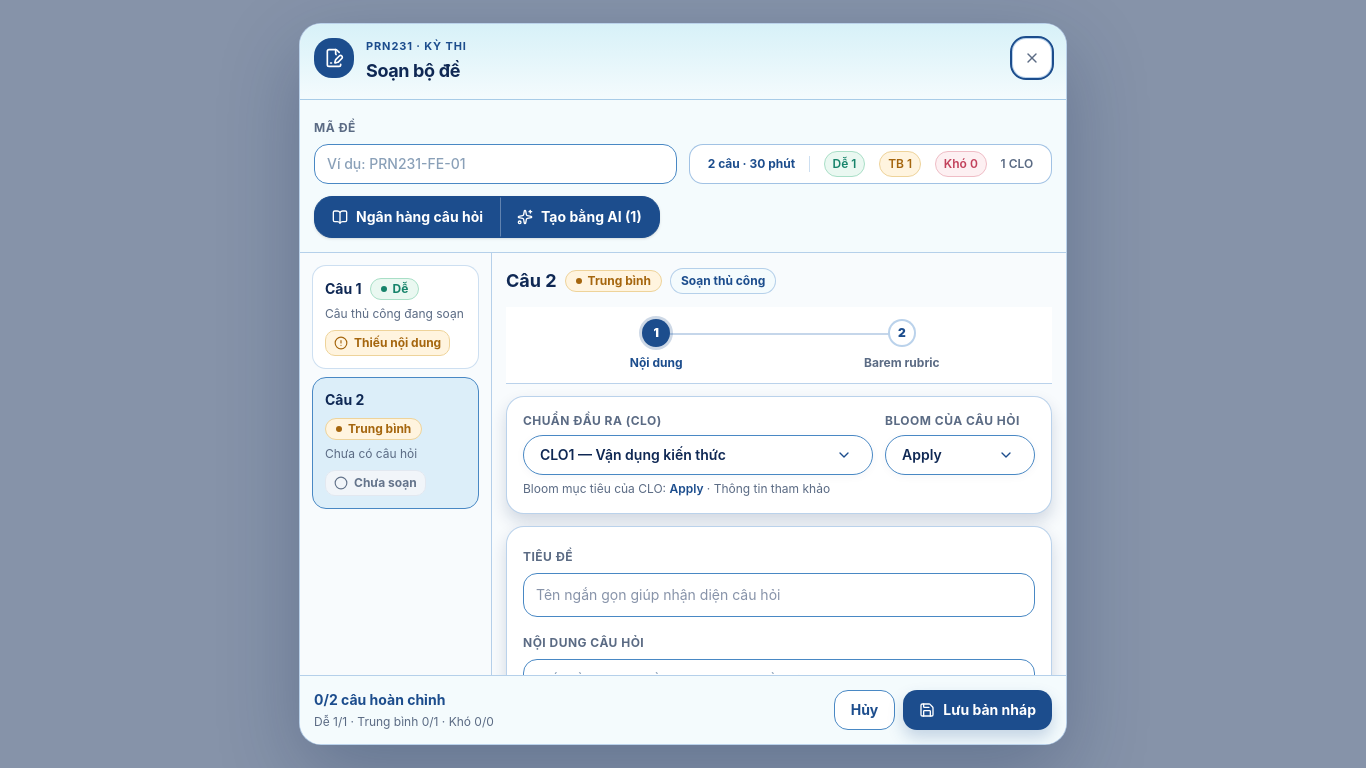
Test: Soạn bộ đề với các tab cố định › preserves typed content when switching tabs and keeps two-step rubric state
Earlier steps of the test are not shown.
Expected: the field labelled "Tiêu đề" is empty, [523,572,1035,616]
Click the tab "Câu 1 Dễ Câu thủ công đang soạn Thiếu nội dung" at (396, 316), box [312,264,479,368]
(page scrolled)
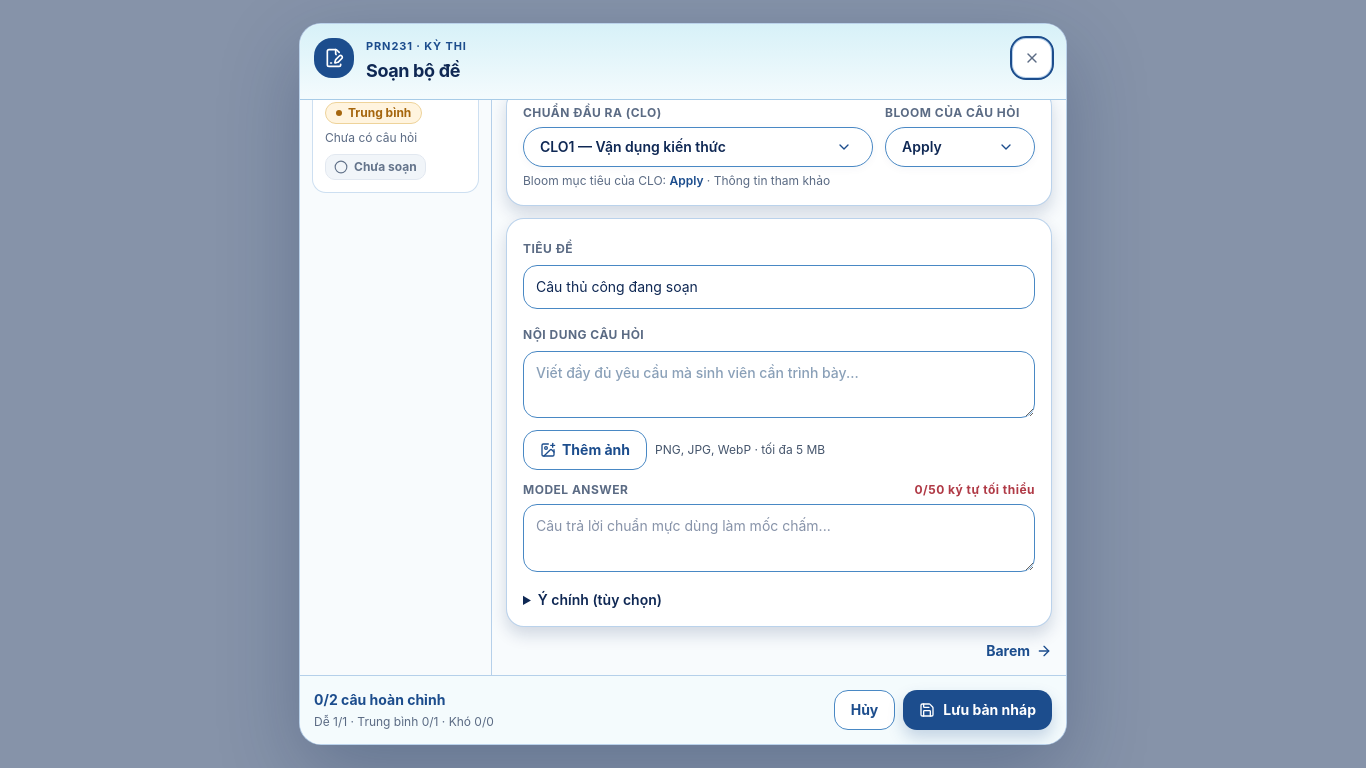
Now the field labelled "Tiêu đề" holds "Câu thủ công đang soạn", box [523,264,1035,308]
Click the button "Barem" at (1019, 650), box [986,634,1052,666]
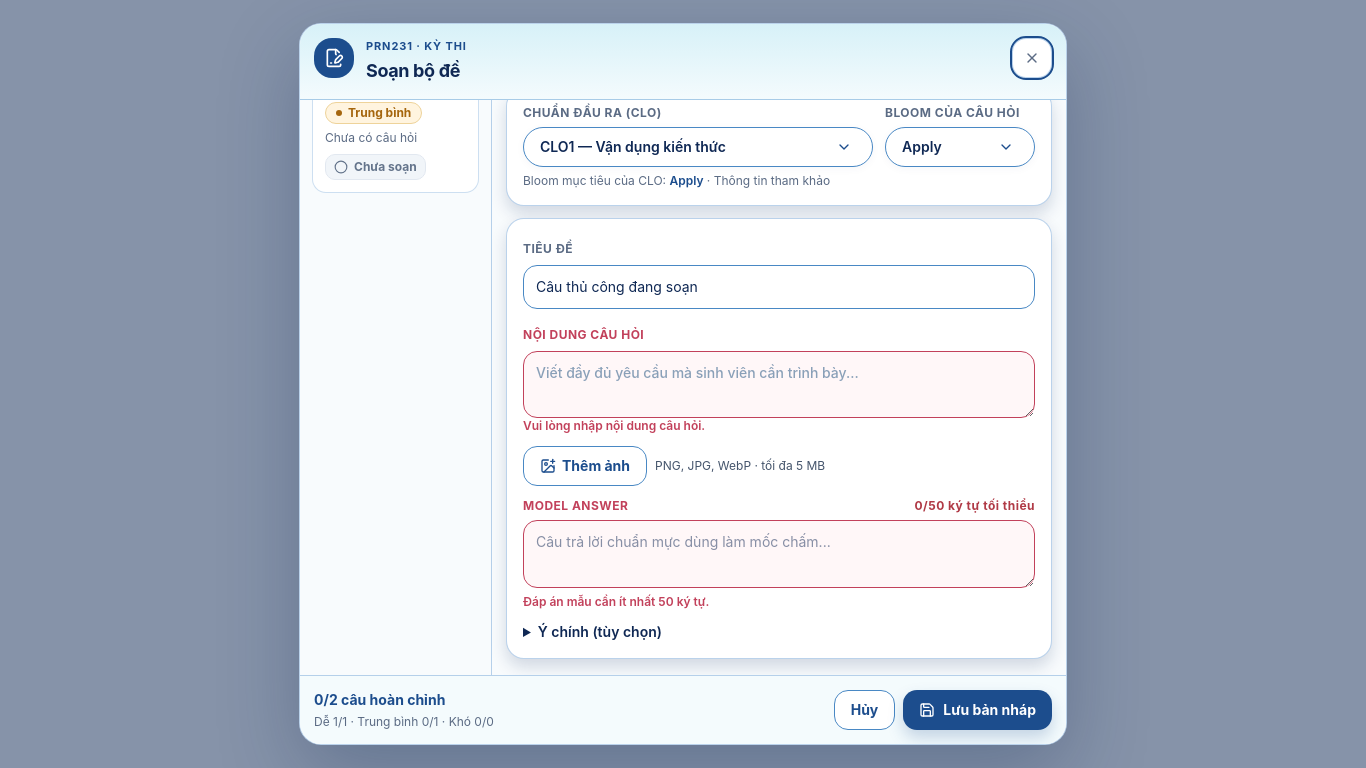
Expected: the field labelled "Tên rubric" is not shown
Now the text "Vui lòng nhập nội dung câu hỏi." is shown, box [523,418,705,433]
Type "Giải thích kiến trúc phần mềm" into the text box labelled "Nội dung câu hỏi" at (779, 384), box [523,350,1035,418]
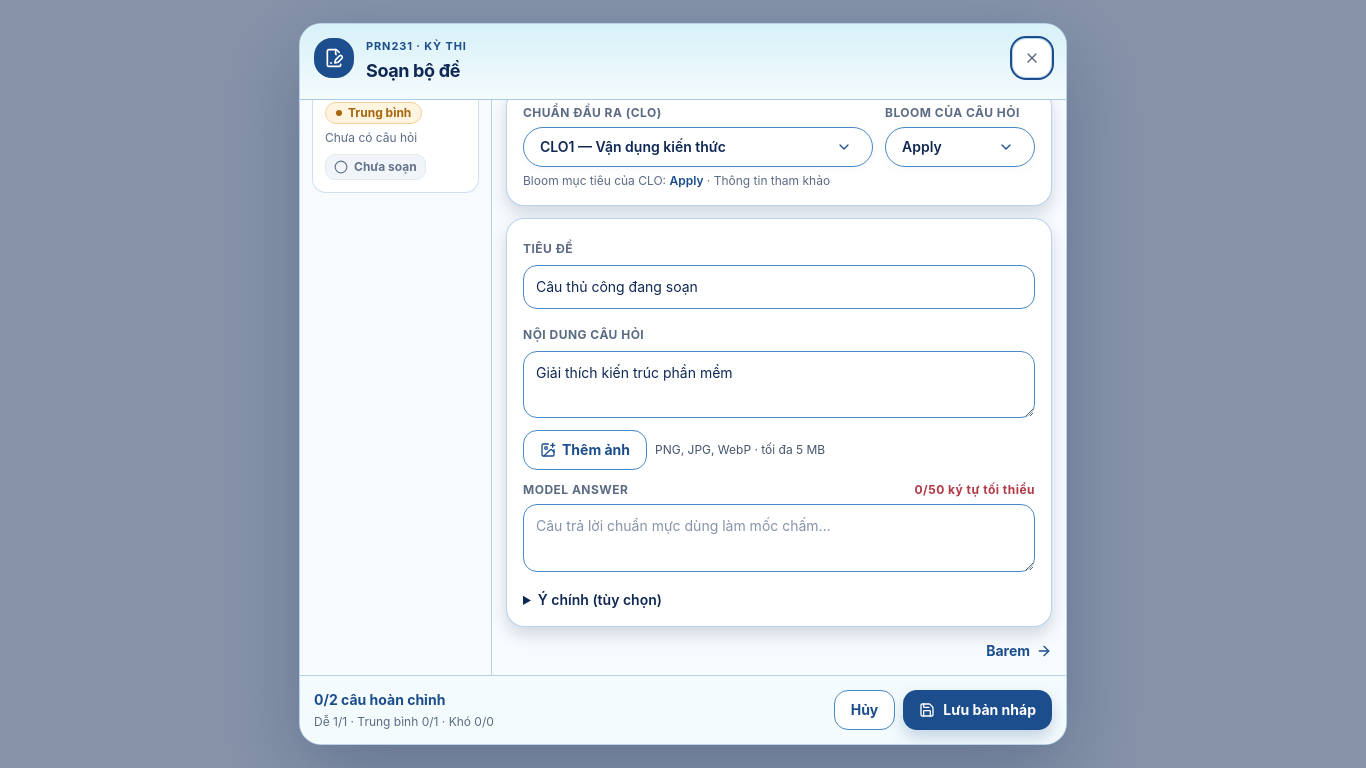
Type "Đáp án mẫu đầy đủ, giải thích khái niệm và đưa ra ví dụ thực tế rõ ràng." into the text box labelled "Model Answer" at (779, 538), box [523,504,1035,572]
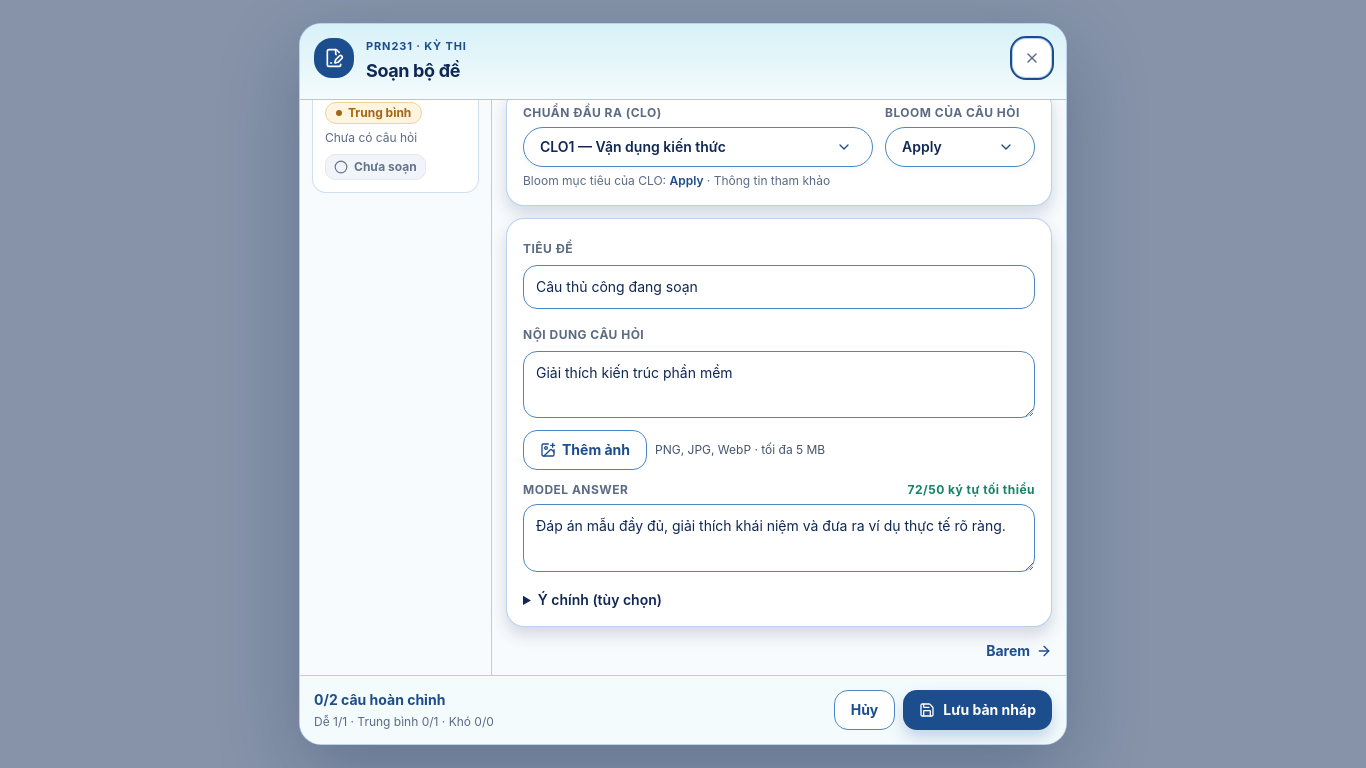
Click the button "Barem" at (1019, 650), box [986,634,1052,666]
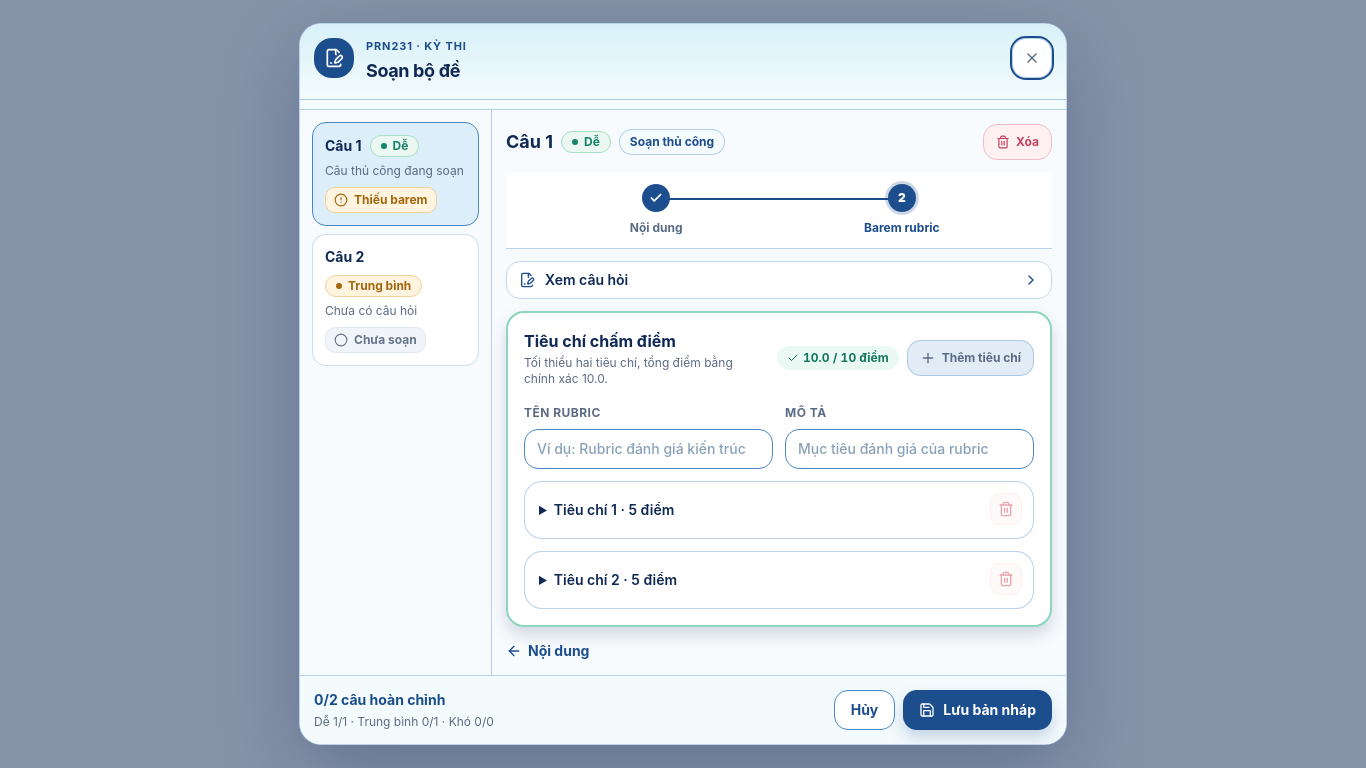
Now the field labelled "Tên rubric" is shown, box [524,428,773,468]
Click the button "Nội dung" at (548, 650), box [506,634,590,666]
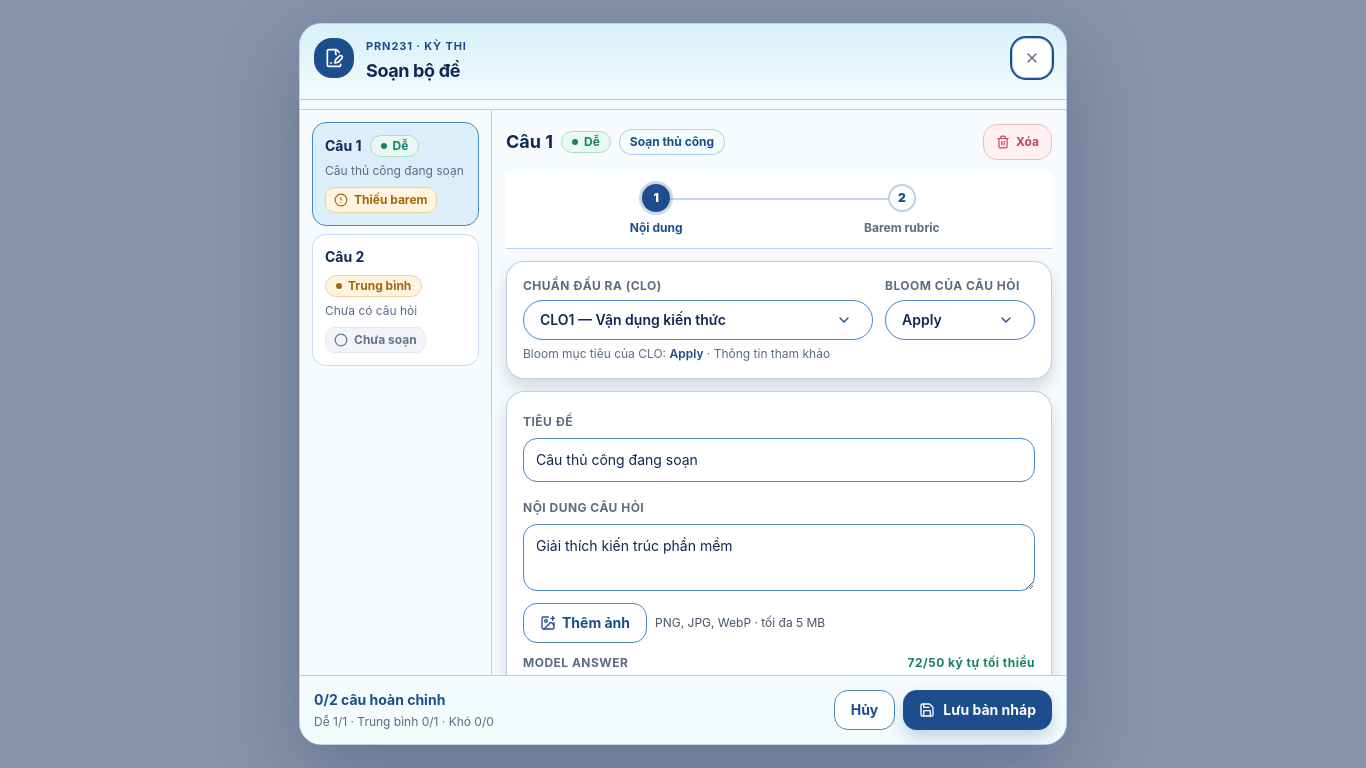
Now the field labelled "Tiêu đề" holds "Câu thủ công đang soạn", box [523,438,1035,482]
